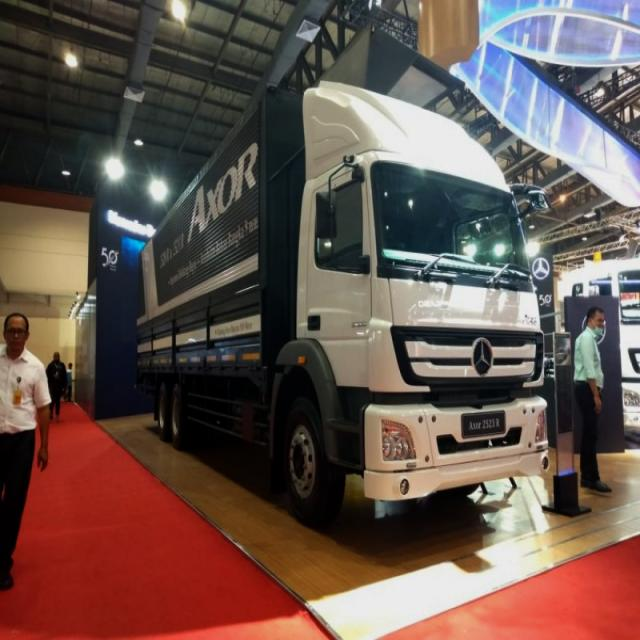truck: (134, 62, 550, 507)
